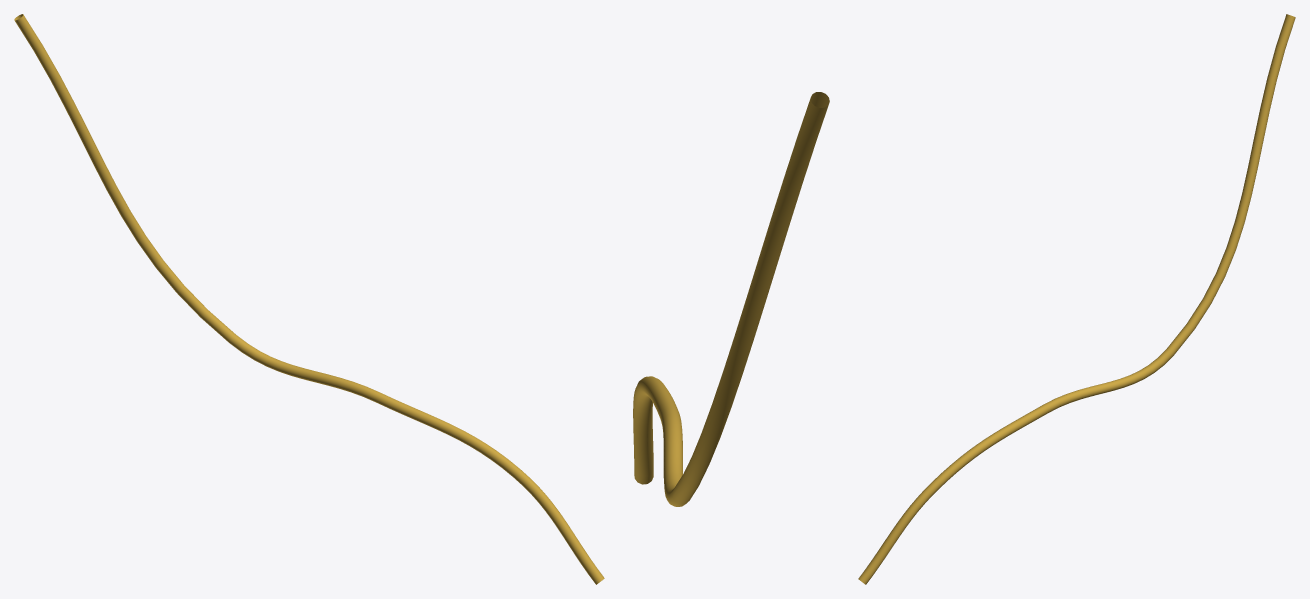
3 views of the same model, side by side, from view 1: azimuth 30°, elevation 25°; view 2: azimuth 150°, elevation 25°; view 3: azimuth 270°, elevation 25° (orthographic). The views are drawn at different scales.
Parts seen in each view (by area): view 1: 左侧腓总神经交通支; view 2: 左侧腓总神经交通支; view 3: 左侧腓总神经交通支.
Boxes of the visible parts, left/top/right/bottom form: 左侧腓总神经交通支: left=14, top=14, right=604, bottom=584; 左侧腓总神经交通支: left=633, top=92, right=829, bottom=506; 左侧腓总神经交通支: left=858, top=14, right=1295, bottom=584.
Bounding box in the file's own units: 0.0534 × 0.0697 × 0.0652.
